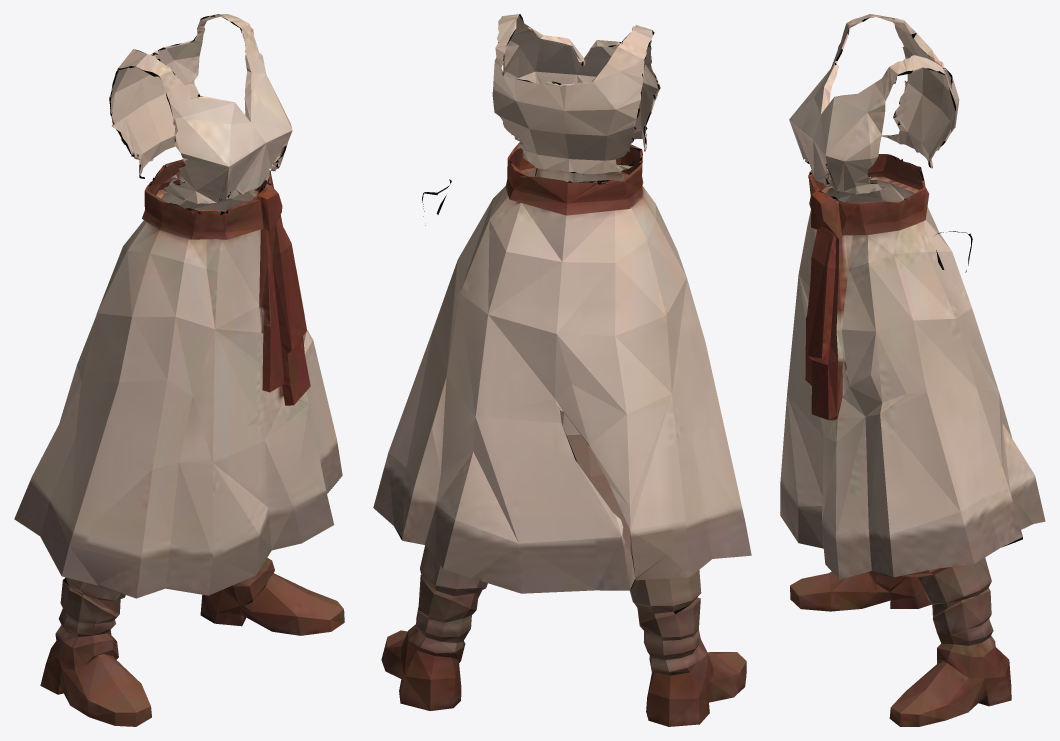
File: Clothing_long-dress_LOD2.glb
The picture shows the model from 3 angles, left to right: view 1: azimuth 30°, elevation 25°; view 2: azimuth 150°, elevation 25°; view 3: azimuth 270°, elevation 25°; orthographic projection. The views are drawn at different scales.
Parts seen in each view (by area): view 1: long-dress_skirt, long-dress_cloth, long-dress_footwear; view 2: long-dress_skirt, long-dress_cloth, long-dress_footwear; view 3: long-dress_skirt, long-dress_cloth, long-dress_footwear.
Boxes of the visible parts, x1,y1,x2,y2 form: long-dress_skirt: (14, 199, 342, 600); long-dress_cloth: (109, 14, 292, 271); long-dress_footwear: (40, 557, 344, 726); long-dress_skirt: (373, 173, 751, 605); long-dress_cloth: (422, 14, 660, 262); long-dress_footwear: (381, 575, 746, 726); long-dress_skirt: (780, 183, 1045, 602); long-dress_cloth: (789, 14, 972, 272); long-dress_footwear: (790, 571, 1011, 726).
Bounding box in the file's own units: 0.7632 × 1.49 × 0.5762.
1 material, 1 textured.
